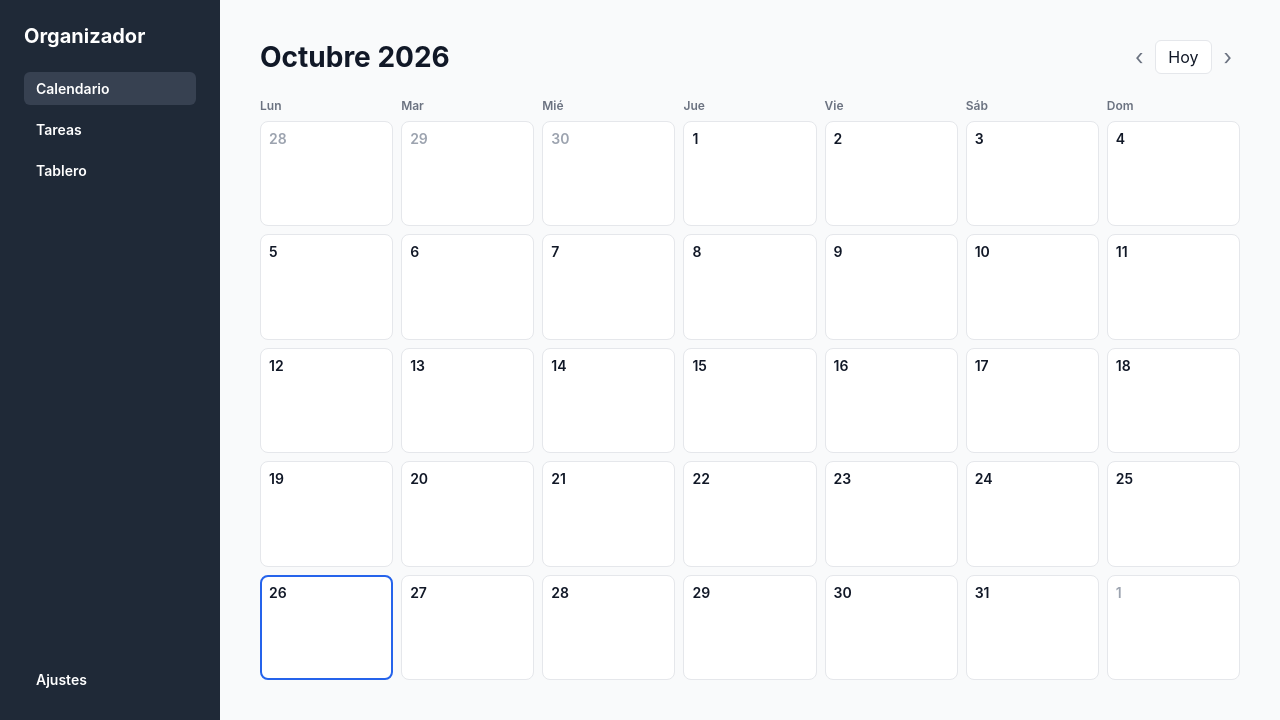
Scenario: avisa si un guardado falla
Expected: the heading "Octubre 2026" is shown, [260, 40, 450, 74]
Click the 1st element showing "28" at [327, 174], box [260, 121, 393, 226]
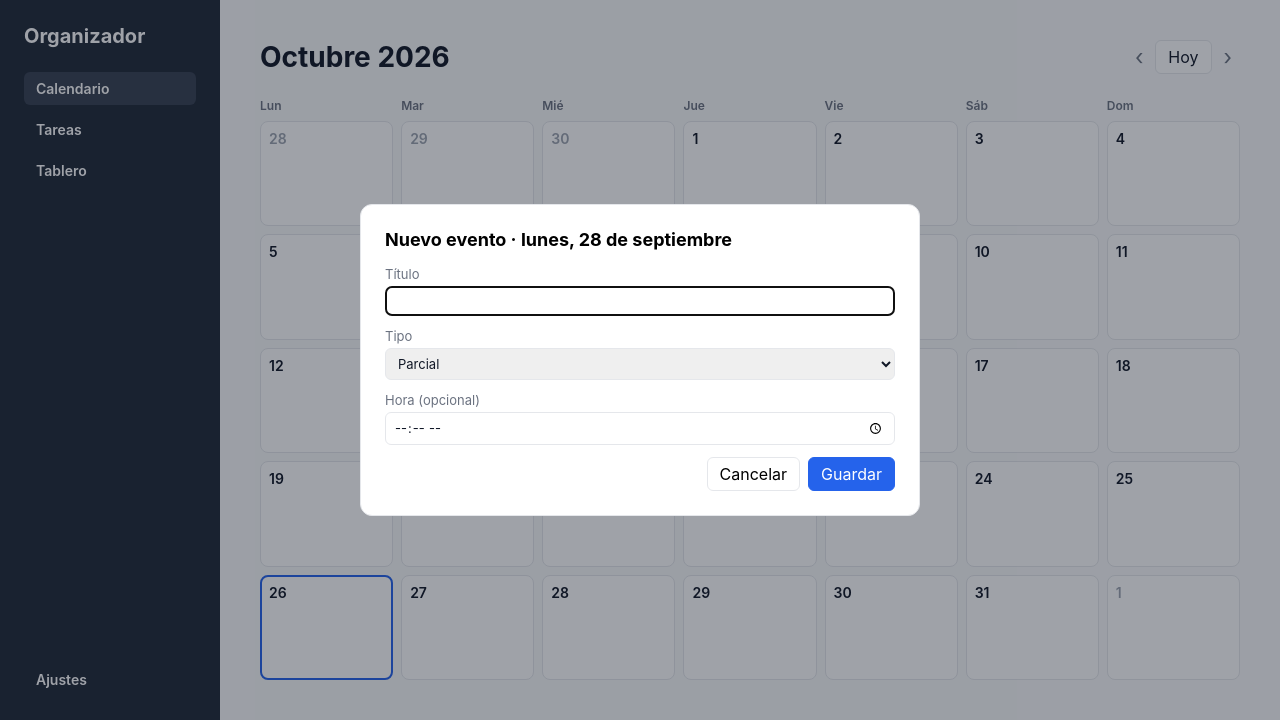
Type "X" into the field labelled "Título" at [640, 301], box [385, 286, 895, 316]
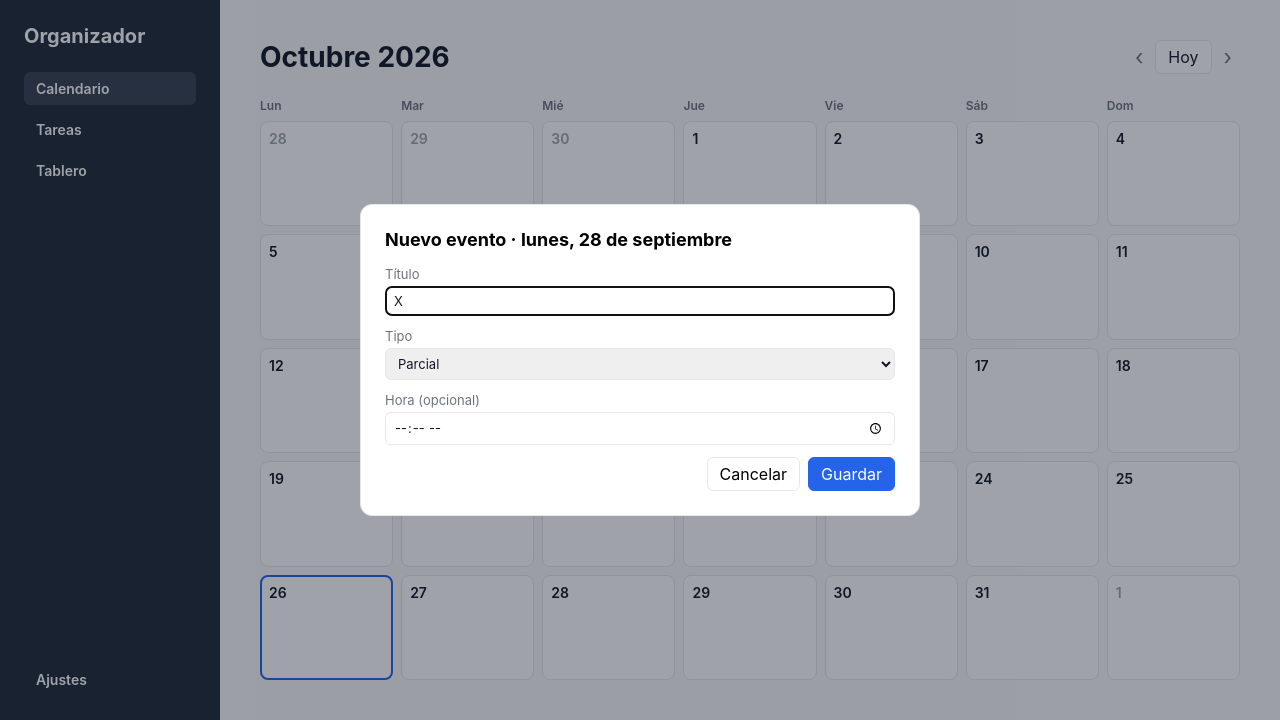
Click the button "Guardar" at [852, 474], box [808, 457, 895, 491]
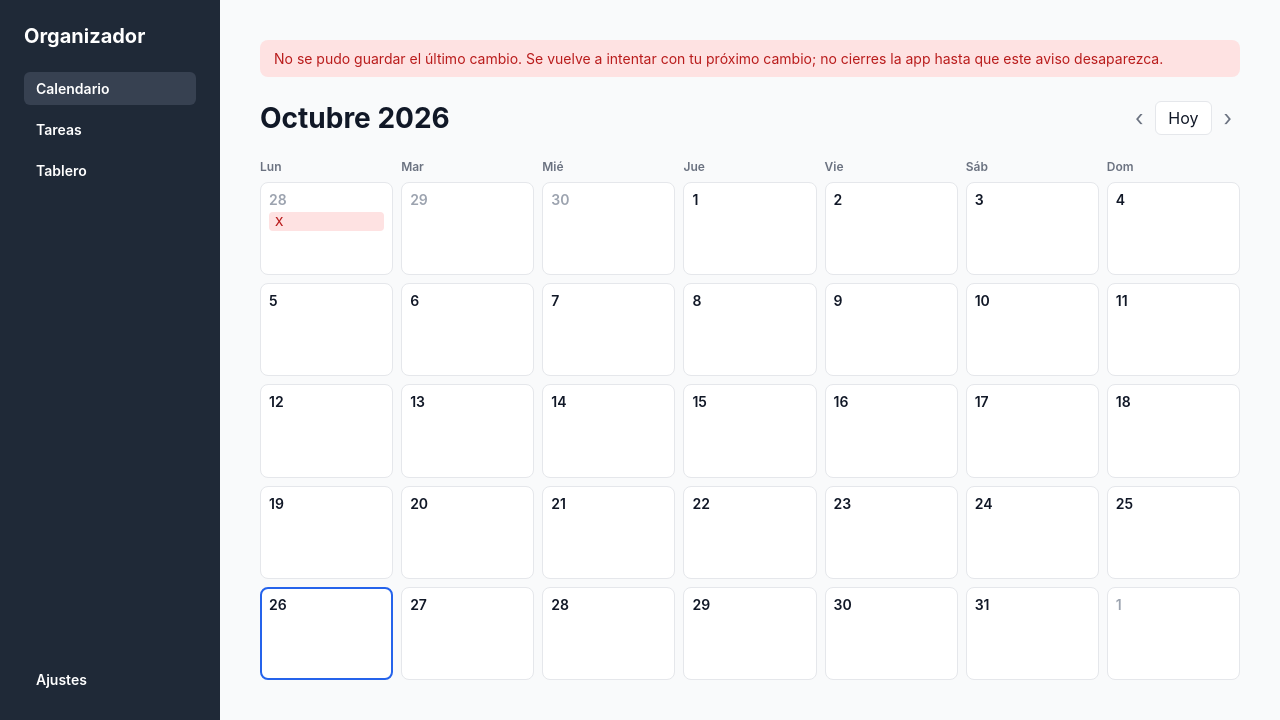
Expected: the message shows "No se pudo guardar", [274, 50, 1163, 67]
